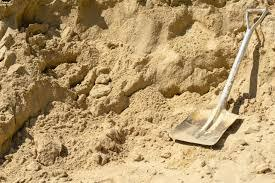sand: (162, 56, 185, 76), (133, 26, 154, 45), (89, 31, 110, 50), (195, 37, 216, 54)
